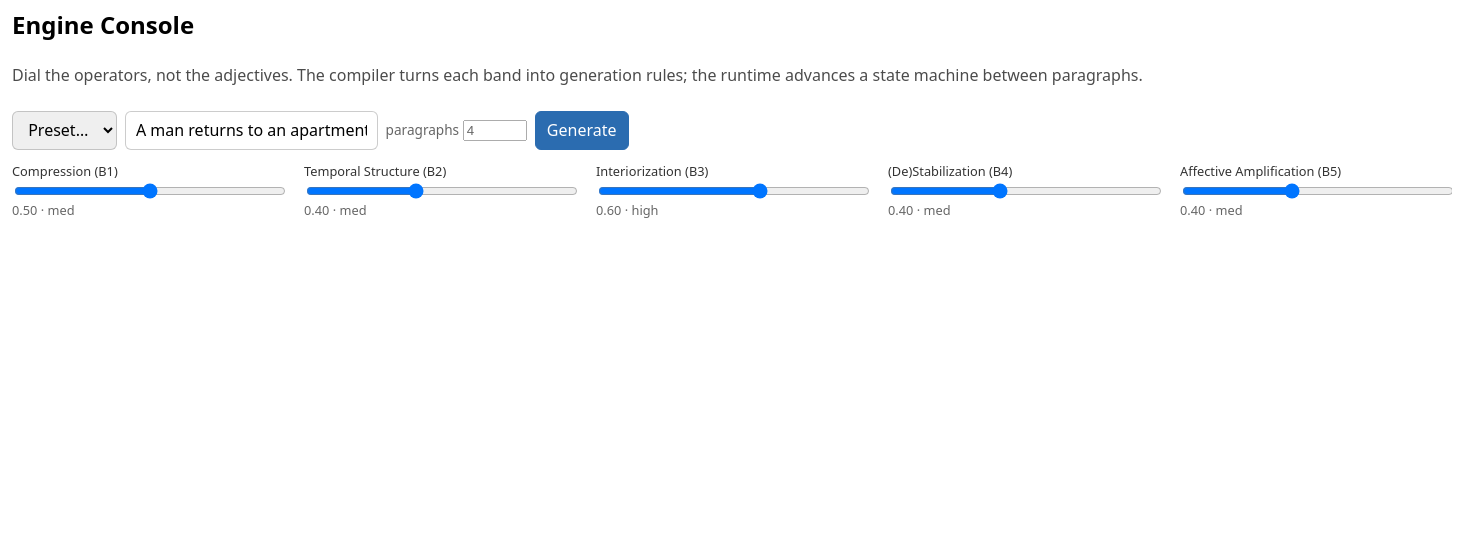
Test: EngineConsole › generates and shows each paragraph with its evolving state
Click the button "Generate" at (582, 130), box x1=535 y1=111 x2=629 y2=150
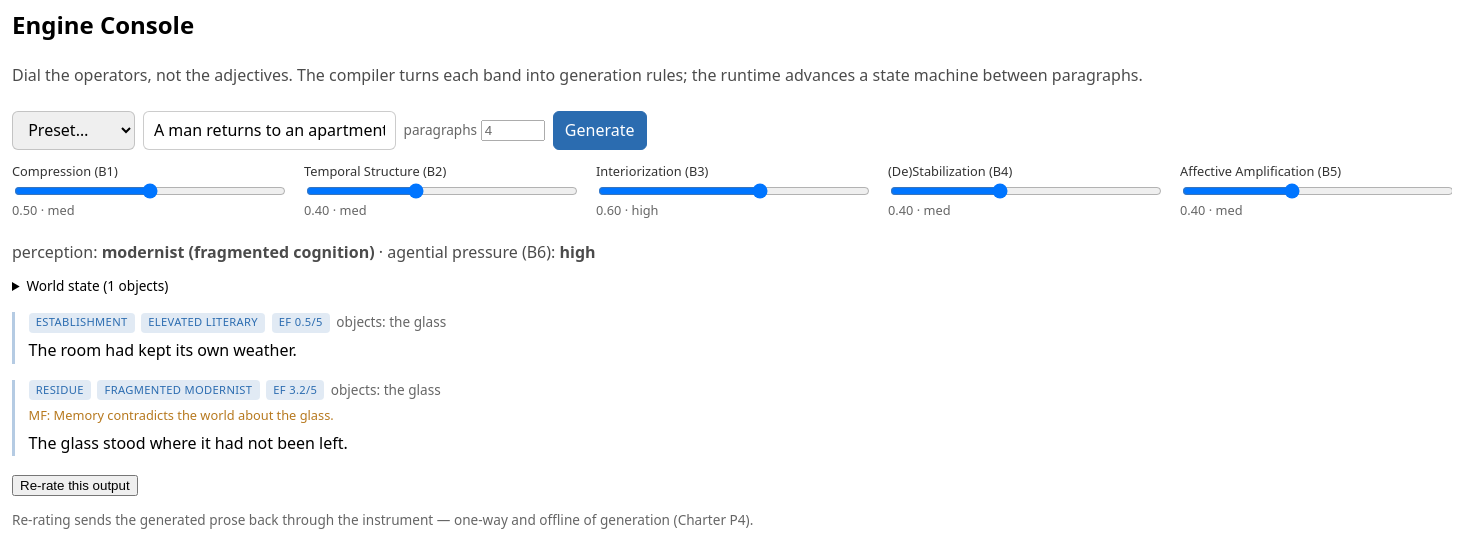
Expected: the text "The room had kept its own weather." is shown, x1=29 y1=339 x2=297 y2=361
Expected: the text "establishment" is shown, x1=29 y1=313 x2=135 y2=333
Expected: the text "residue" is shown, x1=29 y1=380 x2=91 y2=400
